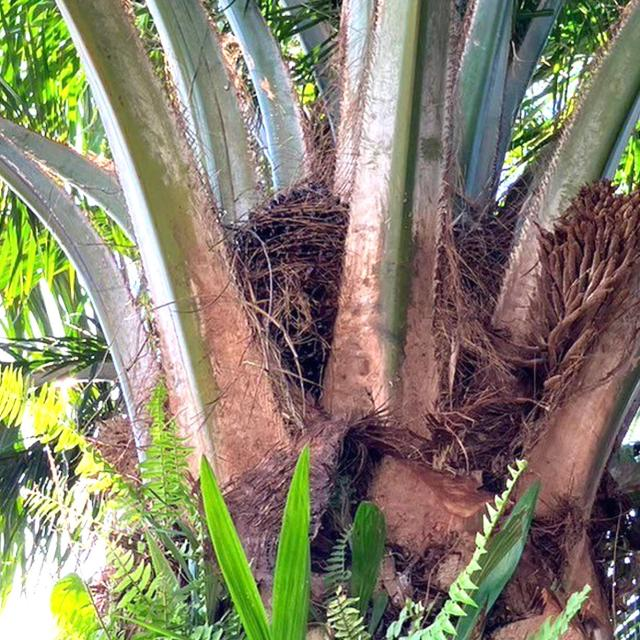almost: (218, 172, 372, 400)
